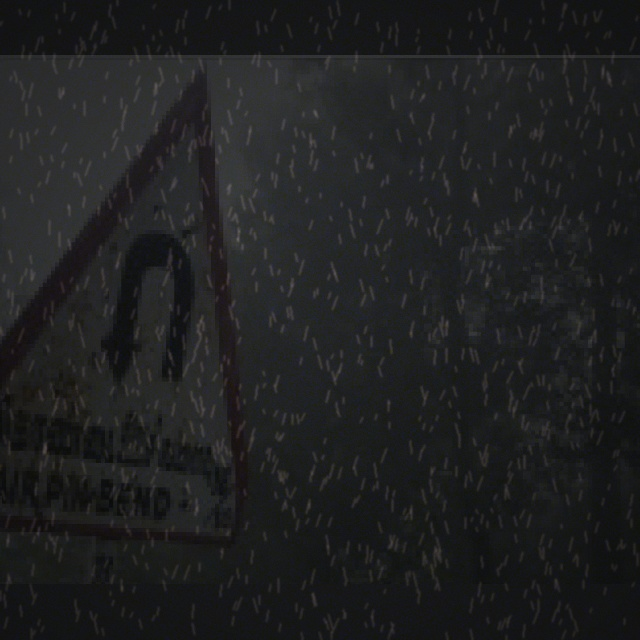Left_Hair_Pin_Bend: (78, 196, 215, 391)
